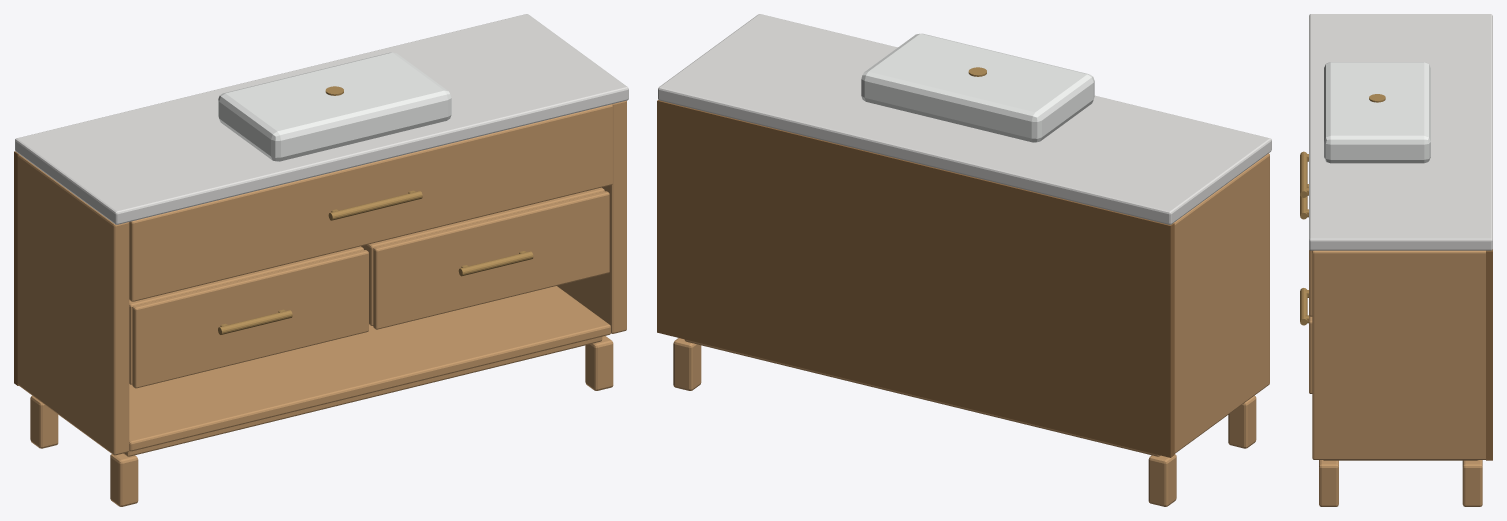
Rendered from vanity-oak.glb.
3 views of the same model, side by side, from view 1: azimuth 30°, elevation 25°; view 2: azimuth 150°, elevation 25°; view 3: azimuth 270°, elevation 25° (orthographic). The views are drawn at different scales.
Visible parts, largest first — view 1: top-marble, drawer-top-front, bottom, side, drawer-low-front.001, drawer-low-front, basin, side.001, shelf-low, drawer-low-box.001, drawer-low-box, leg (+4 smaller); view 2: back, top-marble, side, basin, leg.001, leg.003, shelf-low, leg; view 3: side.001, top-marble, basin, back, leg.003, leg.002, pull-bar, drawer-low-front.001, pull-bar.002, drawer-top-front.
Boxes of the visible parts, left/top/right/bottom form: top-marble: left=15, top=14, right=628, bottom=224; drawer-top-front: left=129, top=104, right=612, bottom=301; bottom: left=129, top=286, right=610, bottom=451; side: left=17, top=154, right=129, bottom=455; drawer-low-front.001: left=373, top=191, right=609, bottom=329; drawer-low-front: left=132, top=250, right=368, bottom=388; basin: left=218, top=52, right=451, bottom=161; side.001: left=557, top=100, right=626, bottom=333; shelf-low: left=123, top=337, right=602, bottom=456; drawer-low-box.001: left=361, top=187, right=604, bottom=325; drawer-low-box: left=129, top=246, right=363, bottom=384; leg: left=110, top=453, right=138, bottom=506; back: left=657, top=100, right=1174, bottom=457; top-marble: left=658, top=14, right=1271, bottom=224; side: left=1173, top=153, right=1269, bottom=453; basin: left=861, top=33, right=1094, bottom=142; leg.001: left=1148, top=454, right=1176, bottom=506; leg.003: left=673, top=338, right=701, bottom=390; shelf-low: left=684, top=339, right=1160, bottom=456; leg: left=1228, top=395, right=1256, bottom=448; side.001: left=1312, top=250, right=1485, bottom=459; top-marble: left=1309, top=14, right=1492, bottom=250; basin: left=1324, top=62, right=1430, bottom=163; back: left=1486, top=249, right=1492, bottom=460; leg.003: left=1462, top=460, right=1482, bottom=506; leg.002: left=1319, top=460, right=1338, bottom=506; pull-bar: left=1300, top=151, right=1307, bottom=197; drawer-low-front.001: left=1309, top=316, right=1312, bottom=393; pull-bar.002: left=1300, top=288, right=1307, bottom=325; drawer-top-front: left=1309, top=250, right=1312, bottom=316.
Size of the model in its own units: 1.6 by 0.995 by 0.576.
